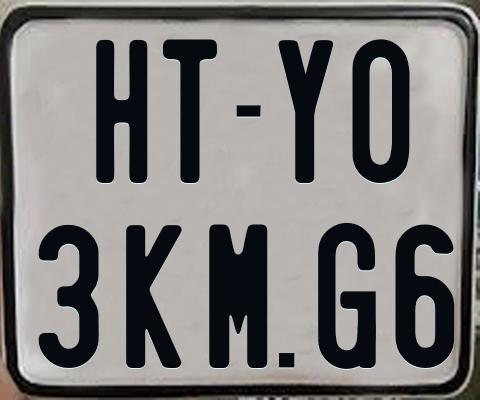0: (352, 36, 412, 182)
3: (36, 224, 98, 372)
6: (393, 223, 459, 369)
G: (317, 220, 378, 369)
H: (96, 38, 152, 186)
K: (126, 224, 188, 370)
M: (209, 222, 268, 370)
T: (162, 38, 222, 184)
Y: (278, 38, 334, 184)
